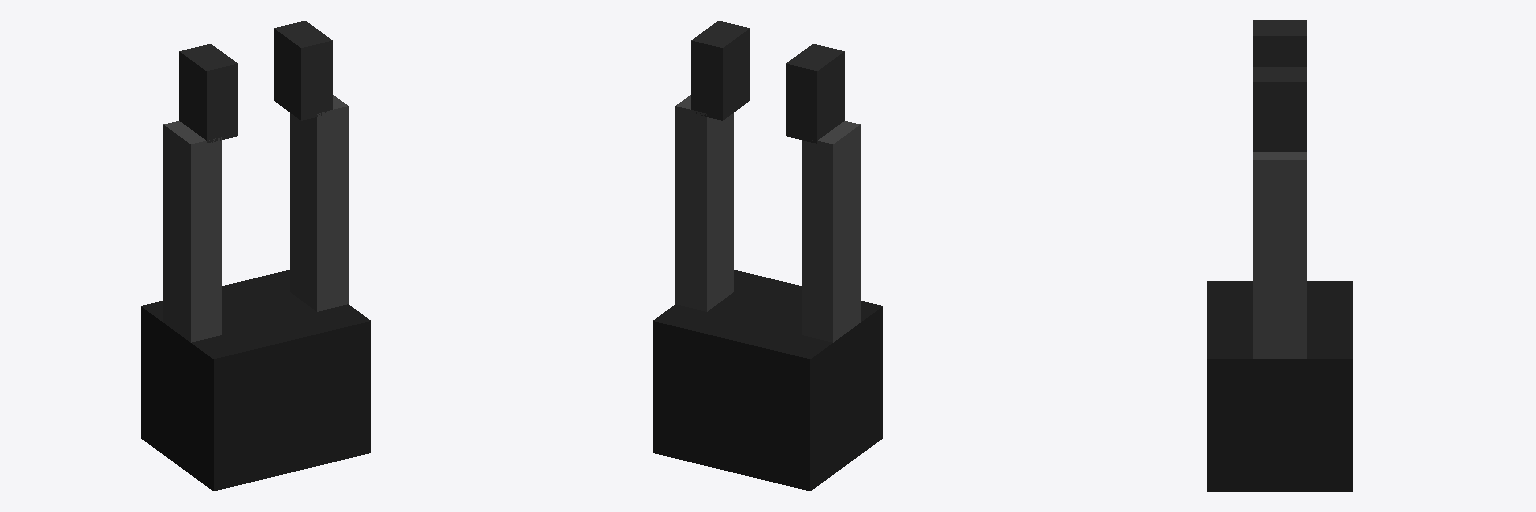
URDF robot description (robotiq_2f85_simplified):
<?xml version="1.0" encoding="utf-8"?>
<!--
  Simplified Robotiq 2F-85 inspired gripper for PyBullet.
  Two symmetric fingers driven by mirrored revolute joints.
  The "gripper_base_link" attaches to the robot's end-effector.
-->
<robot name="robotiq_2f85_simplified">

  <!-- ========== BASE (mounts to end-effector) ========== -->
  <link name="gripper_base_link">
    <inertial>
      <origin xyz="0 0 0.02" rpy="0 0 0"/>
      <mass value="0.3"/>
      <inertia ixx="0.0001" ixy="0" ixz="0" iyy="0.0001" iyz="0" izz="0.0001"/>
    </inertial>
    <visual>
      <origin xyz="0 0 0.02" rpy="0 0 0"/>
      <geometry>
        <box size="0.05 0.04 0.04"/>
      </geometry>
      <material name="gripper_dark">
        <color rgba="0.15 0.15 0.15 1"/>
      </material>
    </visual>
    <collision>
      <origin xyz="0 0 0.02" rpy="0 0 0"/>
      <geometry>
        <box size="0.05 0.04 0.04"/>
      </geometry>
    </collision>
  </link>

  <!-- ========== LEFT FINGER ========== -->
  <link name="left_finger_link">
    <inertial>
      <origin xyz="0 0 0.03" rpy="0 0 0"/>
      <mass value="0.05"/>
      <inertia ixx="0.00001" ixy="0" ixz="0" iyy="0.00001" iyz="0" izz="0.00001"/>
    </inertial>
    <visual>
      <origin xyz="0 0 0.03" rpy="0 0 0"/>
      <geometry>
        <box size="0.01 0.015 0.06"/>
      </geometry>
      <material name="gripper_finger">
        <color rgba="0.3 0.3 0.3 1"/>
      </material>
    </visual>
    <collision>
      <origin xyz="0 0 0.03" rpy="0 0 0"/>
      <geometry>
        <box size="0.01 0.015 0.06"/>
      </geometry>
    </collision>
  </link>

  <joint name="gripper_left_finger_joint" type="revolute">
    <origin xyz="0.02 0 0.04" rpy="0 0 0"/>
    <parent link="gripper_base_link"/>
    <child link="left_finger_link"/>
    <axis xyz="0 1 0"/>
    <limit lower="0" upper="1.2" effort="20" velocity="2.0"/>
    <dynamics damping="0.1" friction="0.01"/>
  </joint>

  <!-- ========== RIGHT FINGER ========== -->
  <link name="right_finger_link">
    <inertial>
      <origin xyz="0 0 0.03" rpy="0 0 0"/>
      <mass value="0.05"/>
      <inertia ixx="0.00001" ixy="0" ixz="0" iyy="0.00001" iyz="0" izz="0.00001"/>
    </inertial>
    <visual>
      <origin xyz="0 0 0.03" rpy="0 0 0"/>
      <geometry>
        <box size="0.01 0.015 0.06"/>
      </geometry>
      <material name="gripper_finger">
        <color rgba="0.3 0.3 0.3 1"/>
      </material>
    </visual>
    <collision>
      <origin xyz="0 0 0.03" rpy="0 0 0"/>
      <geometry>
        <box size="0.01 0.015 0.06"/>
      </geometry>
    </collision>
  </link>

  <joint name="gripper_right_finger_joint" type="revolute">
    <origin xyz="-0.02 0 0.04" rpy="0 0 0"/>
    <parent link="gripper_base_link"/>
    <child link="right_finger_link"/>
    <axis xyz="0 1 0"/>
    <limit lower="-1.2" upper="0" effort="20" velocity="2.0"/>
    <dynamics damping="0.1" friction="0.01"/>
  </joint>

  <!-- ========== LEFT FINGERTIP ========== -->
  <link name="left_fingertip_link">
    <inertial>
      <origin xyz="0 0 0.01" rpy="0 0 0"/>
      <mass value="0.02"/>
      <inertia ixx="0.000001" ixy="0" ixz="0" iyy="0.000001" iyz="0" izz="0.000001"/>
    </inertial>
    <visual>
      <origin xyz="-0.005 0 0.01" rpy="0 0 0"/>
      <geometry>
        <box size="0.01 0.015 0.022"/>
      </geometry>
      <material name="gripper_tip">
        <color rgba="0.2 0.2 0.2 1"/>
      </material>
    </visual>
    <collision>
      <origin xyz="-0.005 0 0.01" rpy="0 0 0"/>
      <geometry>
        <box size="0.01 0.015 0.022"/>
      </geometry>
    </collision>
  </link>

  <joint name="left_fingertip_joint" type="fixed">
    <origin xyz="0 0 0.06" rpy="0 0 0"/>
    <parent link="left_finger_link"/>
    <child link="left_fingertip_link"/>
  </joint>

  <!-- ========== RIGHT FINGERTIP ========== -->
  <link name="right_fingertip_link">
    <inertial>
      <origin xyz="0 0 0.01" rpy="0 0 0"/>
      <mass value="0.02"/>
      <inertia ixx="0.000001" ixy="0" ixz="0" iyy="0.000001" iyz="0" izz="0.000001"/>
    </inertial>
    <visual>
      <origin xyz="0.005 0 0.01" rpy="0 0 0"/>
      <geometry>
        <box size="0.01 0.015 0.022"/>
      </geometry>
      <material name="gripper_tip">
        <color rgba="0.2 0.2 0.2 1"/>
      </material>
    </visual>
    <collision>
      <origin xyz="0.005 0 0.01" rpy="0 0 0"/>
      <geometry>
        <box size="0.01 0.015 0.022"/>
      </geometry>
    </collision>
  </link>

  <joint name="right_fingertip_joint" type="fixed">
    <origin xyz="0 0 0.06" rpy="0 0 0"/>
    <parent link="right_finger_link"/>
    <child link="right_fingertip_link"/>
  </joint>

</robot>

--- What the picture shows (computed from the rendered views, not written in the file) ---
3 views of the same robot in one strip: view 1: azimuth 30°, elevation 25°; view 2: azimuth 150°, elevation 25°; view 3: azimuth 270°, elevation 25° (orthographic).
Robot: robotiq_2f85_simplified — 5 links, 4 joints (2 revolute, 2 fixed); root link gripper_base_link; default pose: every joint at zero.
Visible links, largest first — view 1: gripper_base_link, right_finger_link, left_finger_link, left_fingertip_link, right_fingertip_link; view 2: gripper_base_link, right_finger_link, left_finger_link, left_fingertip_link, right_fingertip_link; view 3: gripper_base_link, left_finger_link, left_fingertip_link, right_fingertip_link.
Boxes of the visible links, x1,y1,x2,y2 form: gripper_base_link: (141, 270, 370, 490); right_finger_link: (163, 121, 221, 342); left_finger_link: (290, 95, 348, 311); left_fingertip_link: (274, 21, 332, 120); right_fingertip_link: (179, 44, 237, 142); gripper_base_link: (653, 270, 882, 490); right_finger_link: (802, 121, 860, 342); left_finger_link: (675, 95, 733, 311); left_fingertip_link: (691, 21, 749, 120); right_fingertip_link: (786, 44, 844, 143); gripper_base_link: (1207, 281, 1352, 491); left_finger_link: (1253, 152, 1306, 358); left_fingertip_link: (1253, 67, 1306, 151); right_fingertip_link: (1253, 20, 1306, 66).
Bounding box of the posed robot: 0.05 × 0.04 × 0.121 m (x, y, z).
Geometry: primitives only (box / cylinder / sphere), no mesh files.
